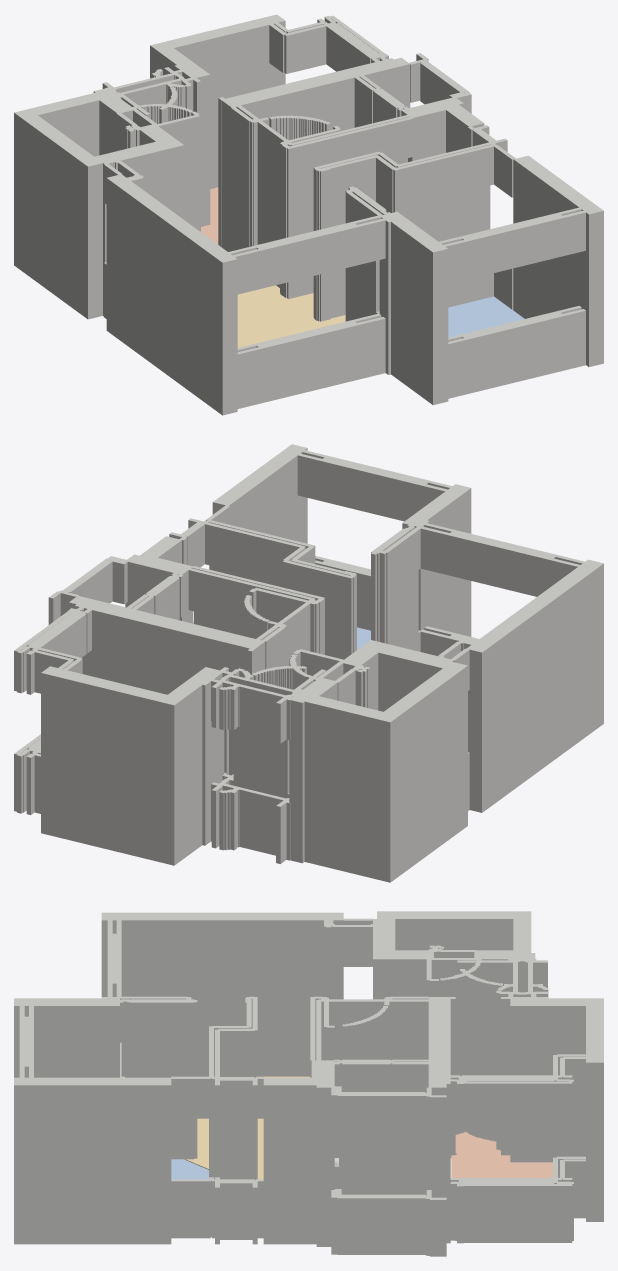
3 views of the same model, one above another, from view 1: azimuth 30°, elevation 25°; view 2: azimuth 150°, elevation 25°; view 3: azimuth 270°, elevation 25° (orthographic). The views are drawn at different scales.
Visible parts, largest first — view 1: walls, room:living:2, room:bedroom:3, room:kitchen:0; view 2: walls; view 3: walls, room:kitchen:0, room:living:2, room:bedroom:3.
Boxes of the visible parts, x1,y1,x2,y2 form: walls: (14, 14, 603, 415); room:living:2: (237, 285, 345, 347); room:bedroom:3: (448, 296, 524, 337); room:kitchen:0: (200, 187, 218, 244); walls: (14, 444, 603, 882); walls: (14, 911, 603, 1256); room:kitchen:0: (451, 1131, 552, 1178); room:living:2: (121, 1076, 310, 1179); room:bedroom:3: (171, 1159, 208, 1179).
Size of the model in its own units: 7.02 by 2.8 by 9.4.
